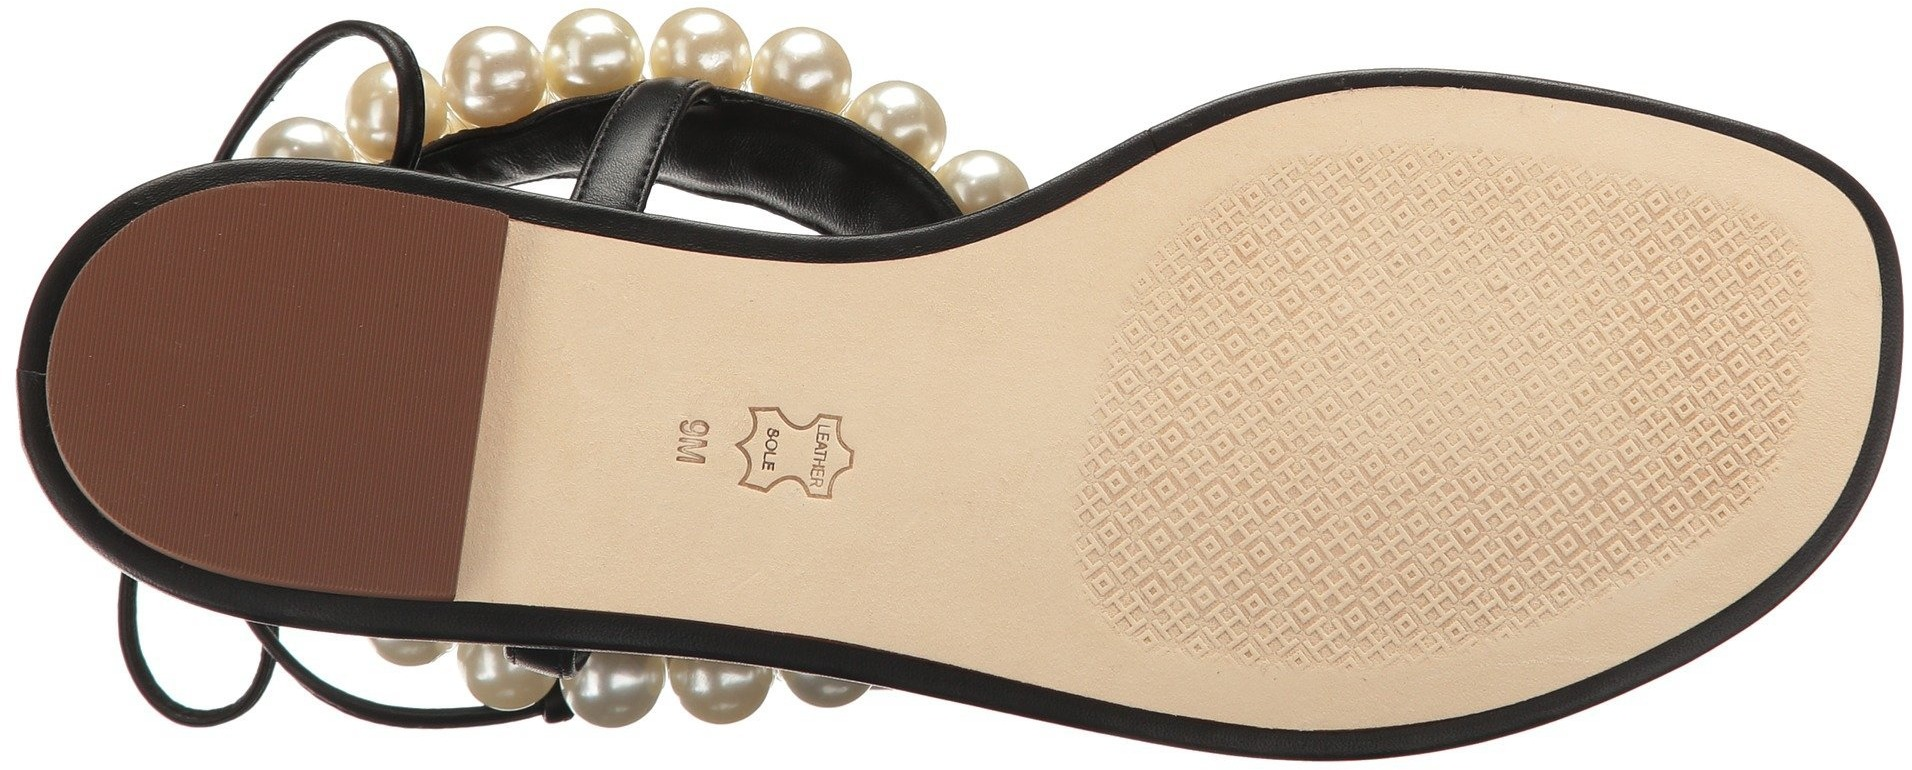exclude: (432, 190, 905, 742), (193, 2, 1062, 234)
other: (133, 229, 457, 539)
quad: (1205, 236, 1572, 550)
star: (1205, 236, 1572, 550)
text: (650, 394, 726, 500), (800, 415, 847, 495), (751, 415, 793, 472)
